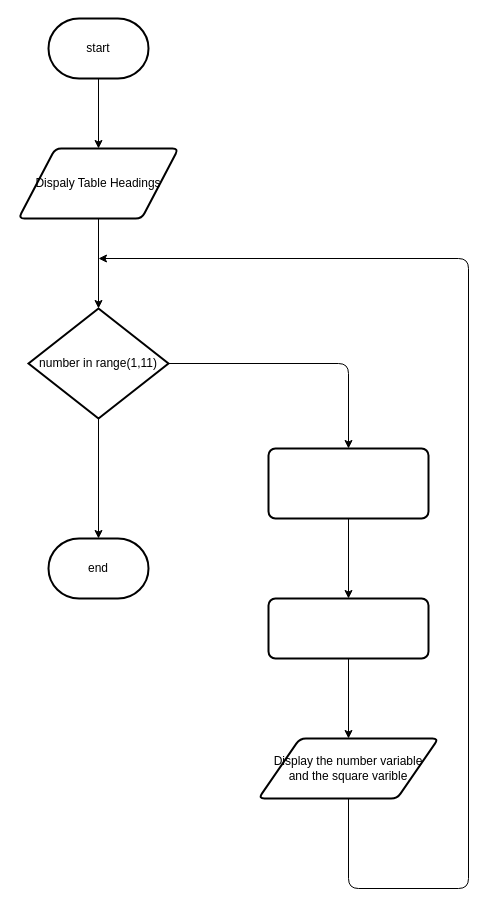
Image size: 494x914. Some labels were removed from this diagram. Here are the shapes that lost their labels. From the top down, the box of each, then its label:
(267, 447, 429, 519): Assign the next value in the list to number.
(267, 597, 429, 659): square = number**2
